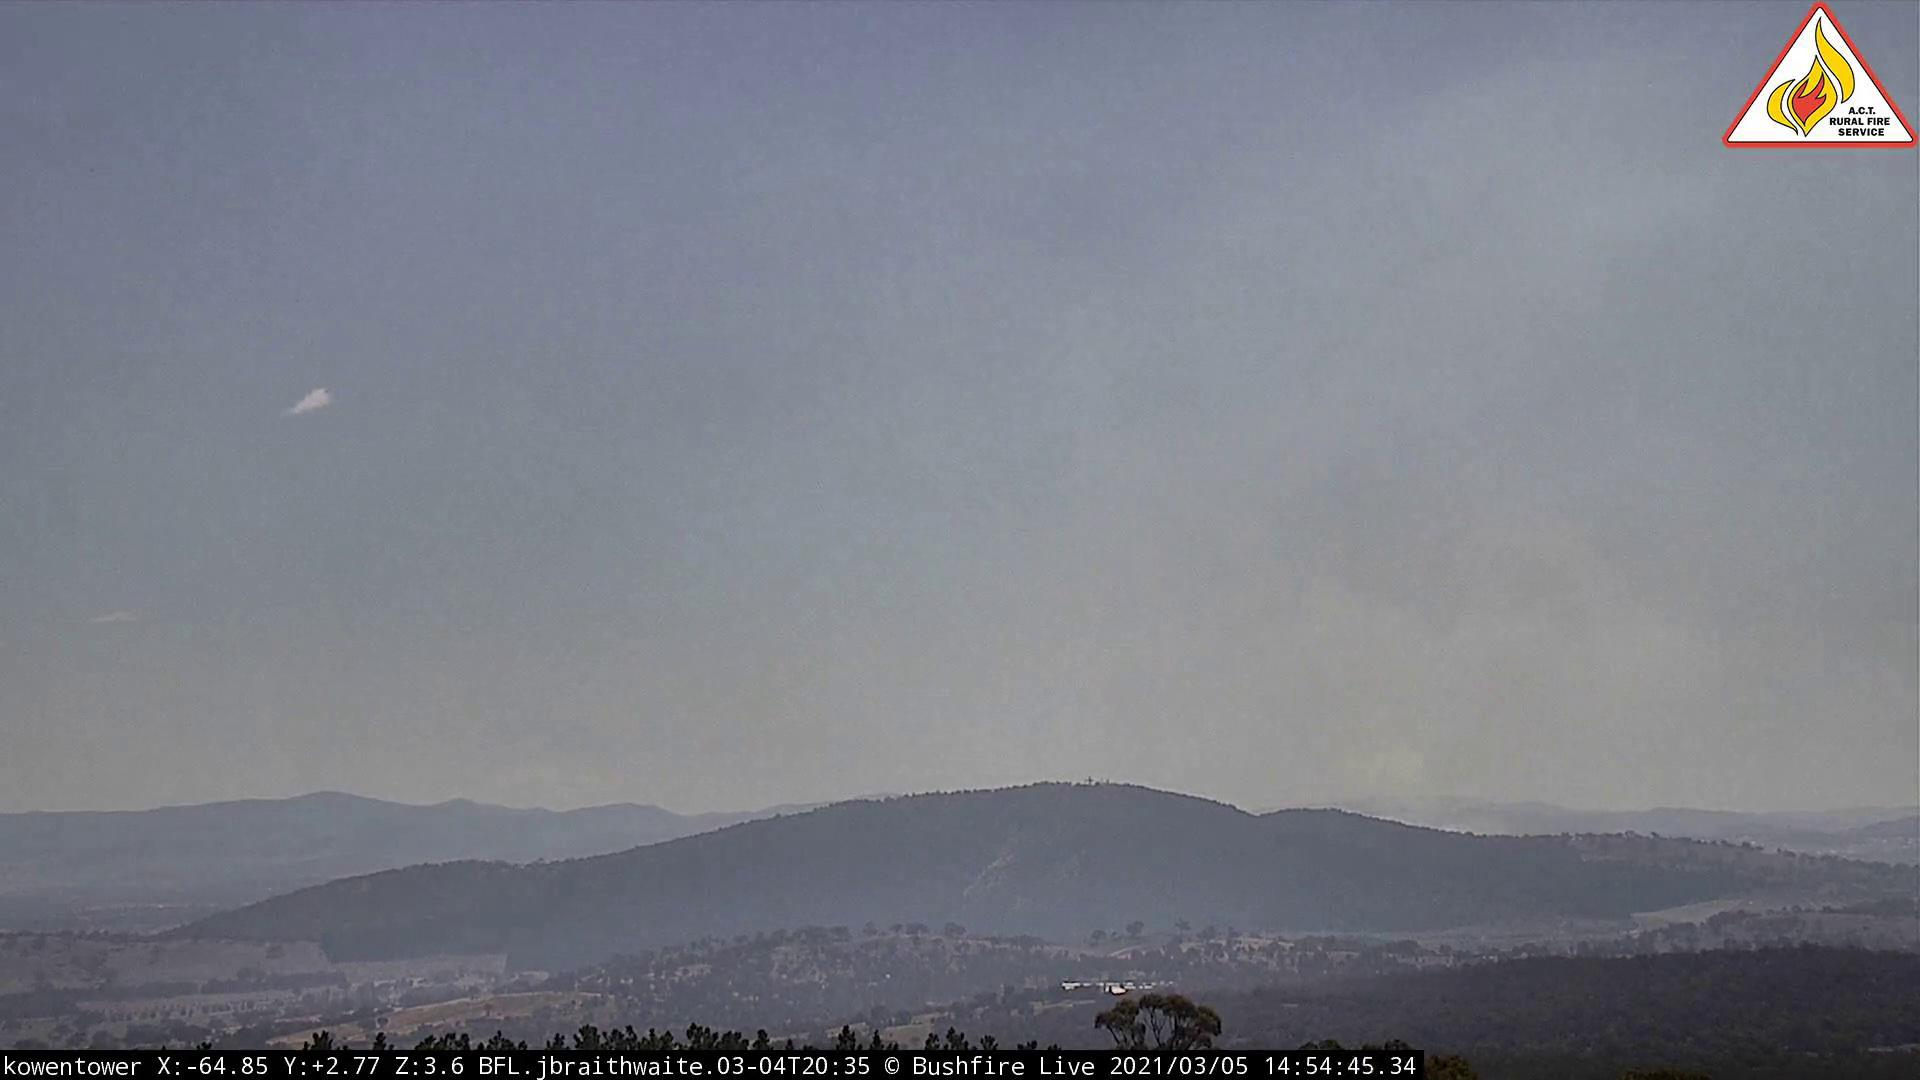Smoke: (903, 375, 1807, 847)
